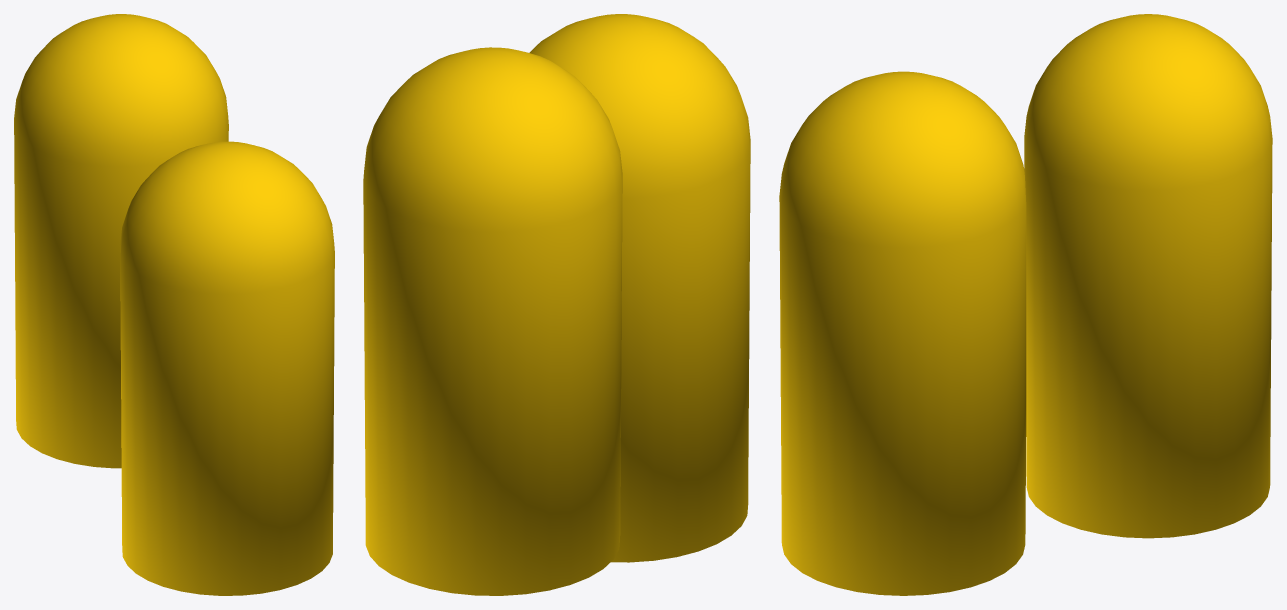
The model's file is bullet1.fbx.
3 renders of one model, left to right at view 1: azimuth 30°, elevation 25°; view 2: azimuth 150°, elevation 25°; view 3: azimuth 270°, elevation 25°, orthographic. The views are drawn at different scales.
Parts seen in each view (by area): view 1: Sphere.001, Sphere; view 2: Sphere, Sphere.001; view 3: Sphere.001, Sphere.
Part boxes in pixels (<box>): Sphere.001: <box>120,141,334,595</box>; Sphere: <box>14,14,228,468</box>; Sphere: <box>363,47,622,595</box>; Sphere.001: <box>529,14,750,562</box>; Sphere.001: <box>779,71,1026,595</box>; Sphere: <box>1024,14,1272,538</box>.
Bounding box in the file's own units: 200 × 469 × 397.
